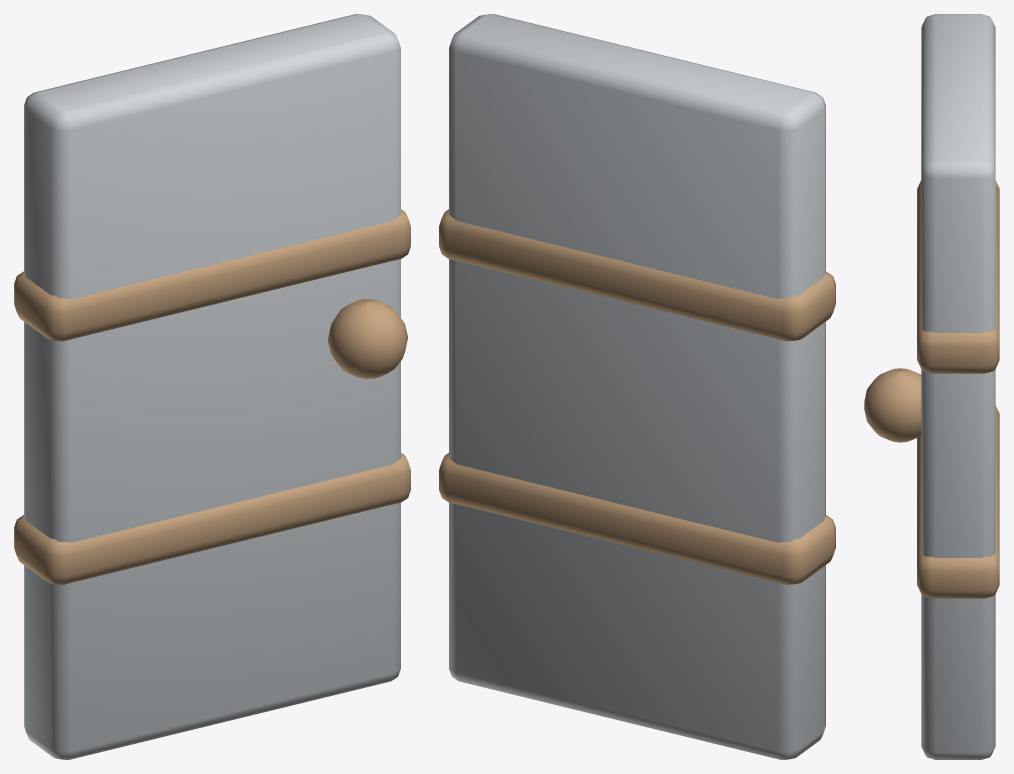
File: Seal.glb
3 views of the same model, side by side, from view 1: azimuth 30°, elevation 25°; view 2: azimuth 150°, elevation 25°; view 3: azimuth 270°, elevation 25° (orthographic). The views are drawn at different scales.
Parts seen in each view (by area): view 1: Seal_door, Seal_band0, Seal_band1, Seal_knob; view 2: Seal_door, Seal_band0, Seal_band1; view 3: Seal_door, Seal_band1, Seal_band0, Seal_knob.
Part boxes in pixels (box(x1,y1,x2,y2)): Seal_door: box(24, 14, 400, 759); Seal_band0: box(14, 453, 410, 584); Seal_band1: box(14, 209, 410, 341); Seal_knob: box(327, 299, 407, 379); Seal_door: box(449, 14, 825, 759); Seal_band0: box(439, 453, 835, 584); Seal_band1: box(439, 209, 835, 341); Seal_door: box(921, 14, 995, 759); Seal_band1: box(917, 180, 999, 373); Seal_band0: box(917, 405, 999, 598); Seal_knob: box(864, 368, 921, 442).
Size of the model in its own units: 0.8225 by 1.4 by 0.2868.
